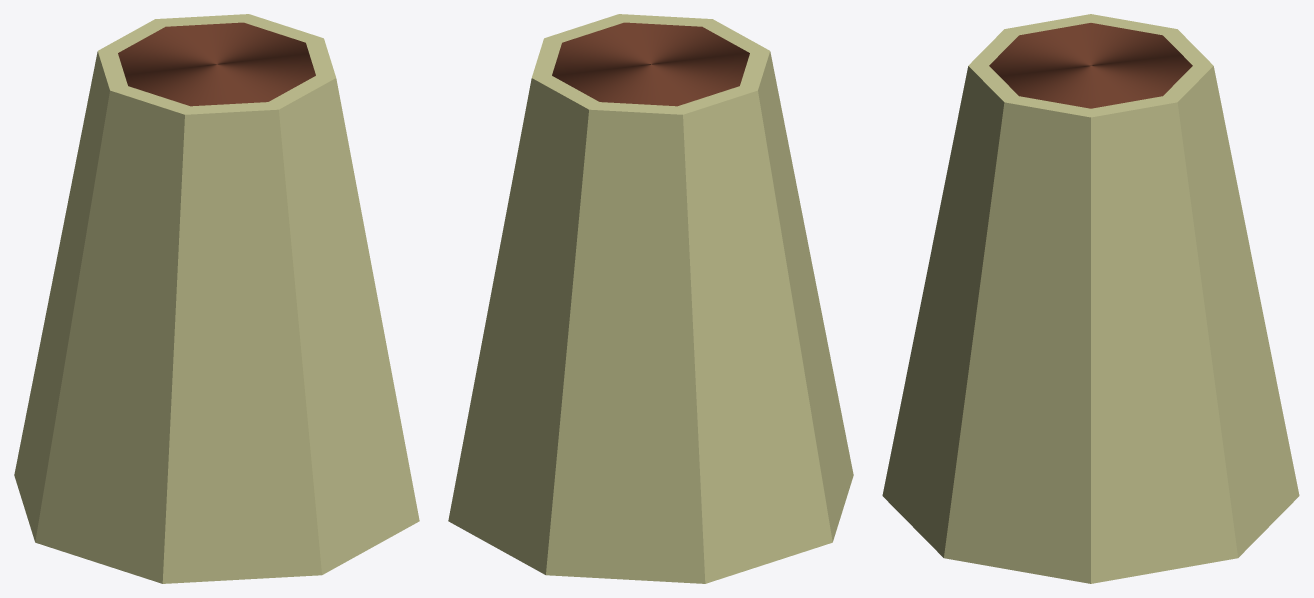
The model's file is StumpCayGoi.fbx.
The picture shows the model from 3 angles, left to right: view 1: azimuth 30°, elevation 25°; view 2: azimuth 150°, elevation 25°; view 3: azimuth 270°, elevation 25°; orthographic projection.
Visible parts, largest first — view 1: Cube.001; view 2: Cube.001; view 3: Cube.001.
Boxes of the visible parts, box(x1,y1,x2,y2) form: Cube.001: box(14, 14, 419, 583); Cube.001: box(448, 14, 853, 583); Cube.001: box(882, 14, 1299, 583).
Bounding box in the file's own units: 368 × 420 × 369.
